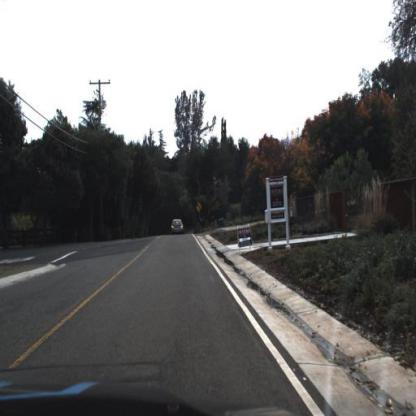car: (169, 216, 186, 239)
